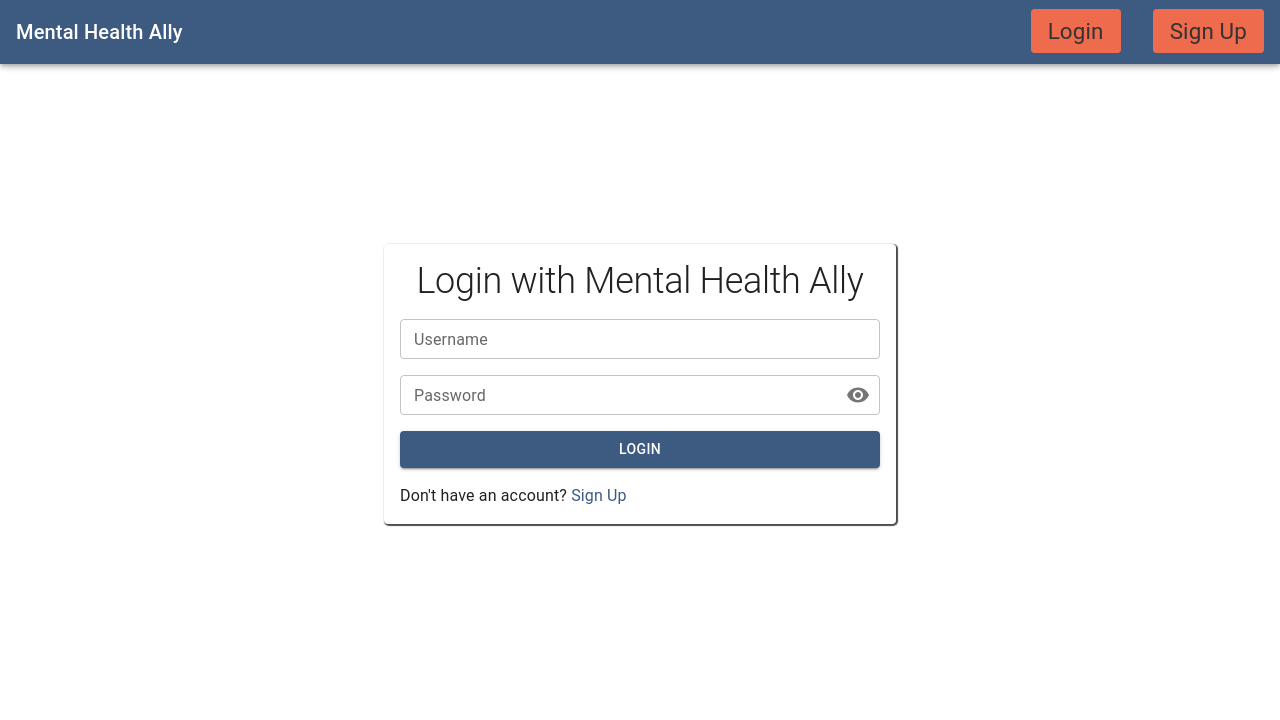
Login Page › username field is empty and error text appears
The image size is (1280, 720).
Clear the field labelled "Username" at [640, 339], box [400,319,880,359]
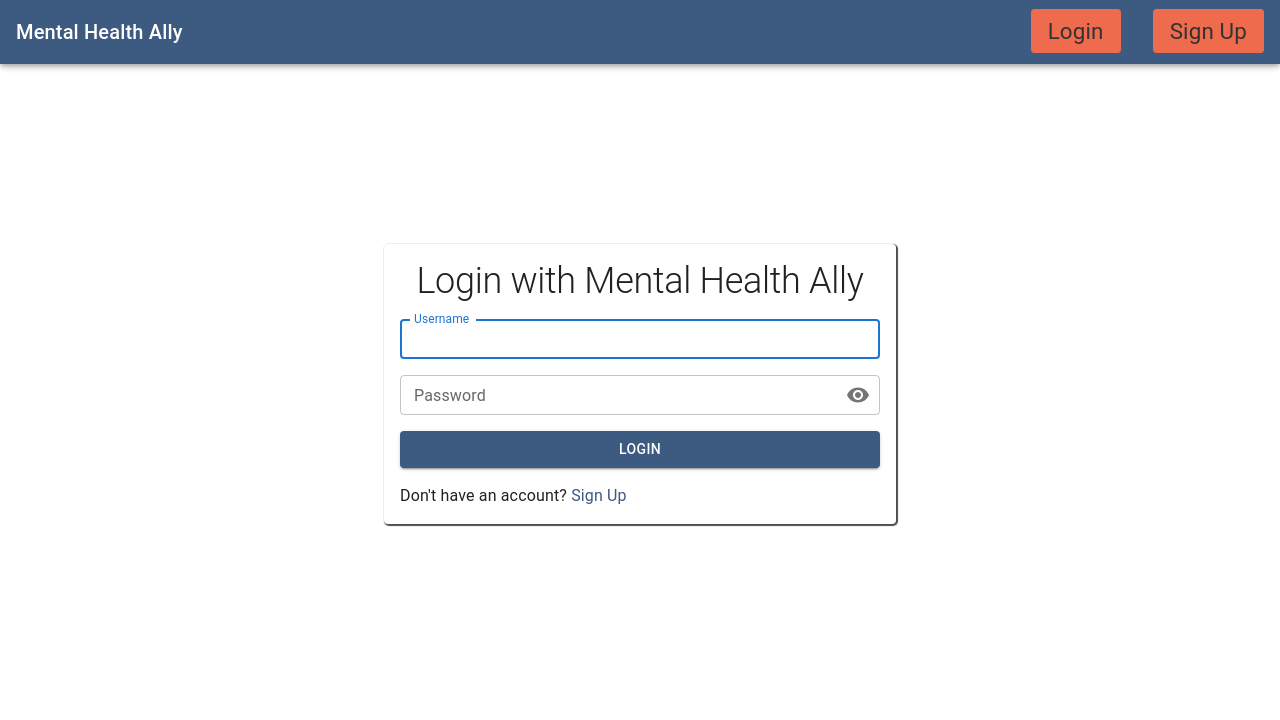
Click the button "Login".
click(640, 450)  # box [400,431,880,468]
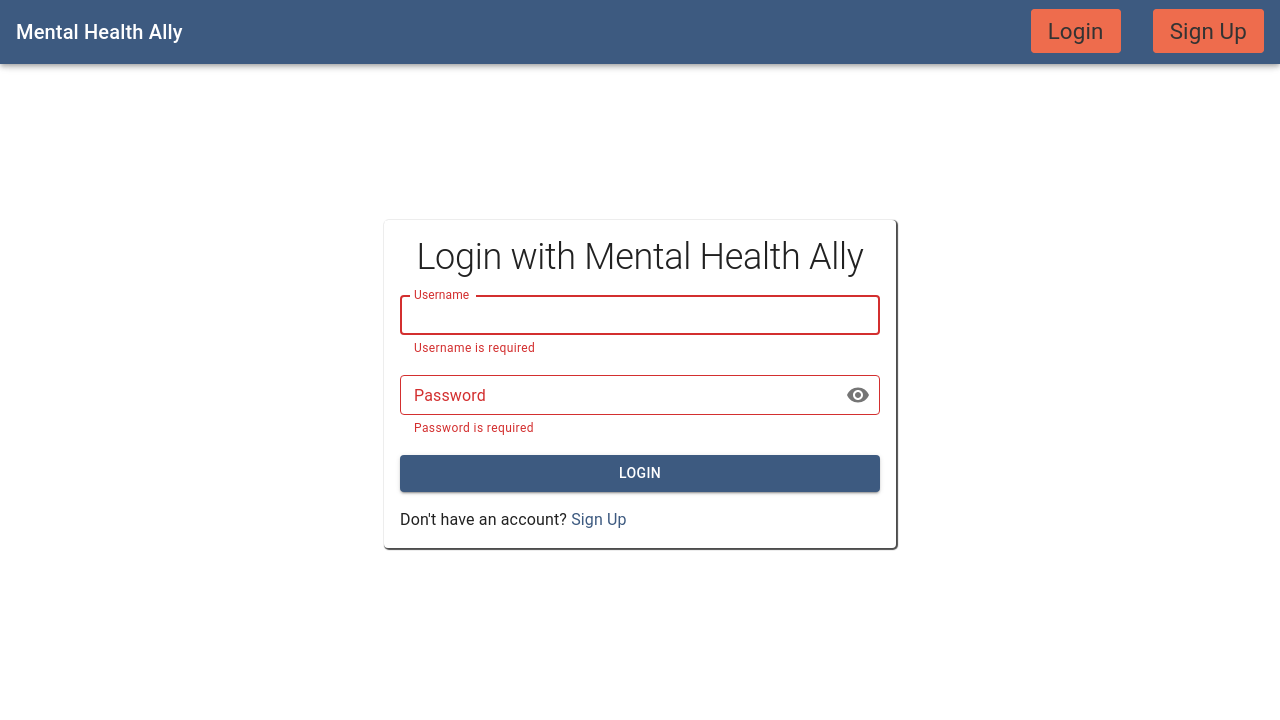
Check: the text "Username is required" is shown, box [414,341,535,355]
